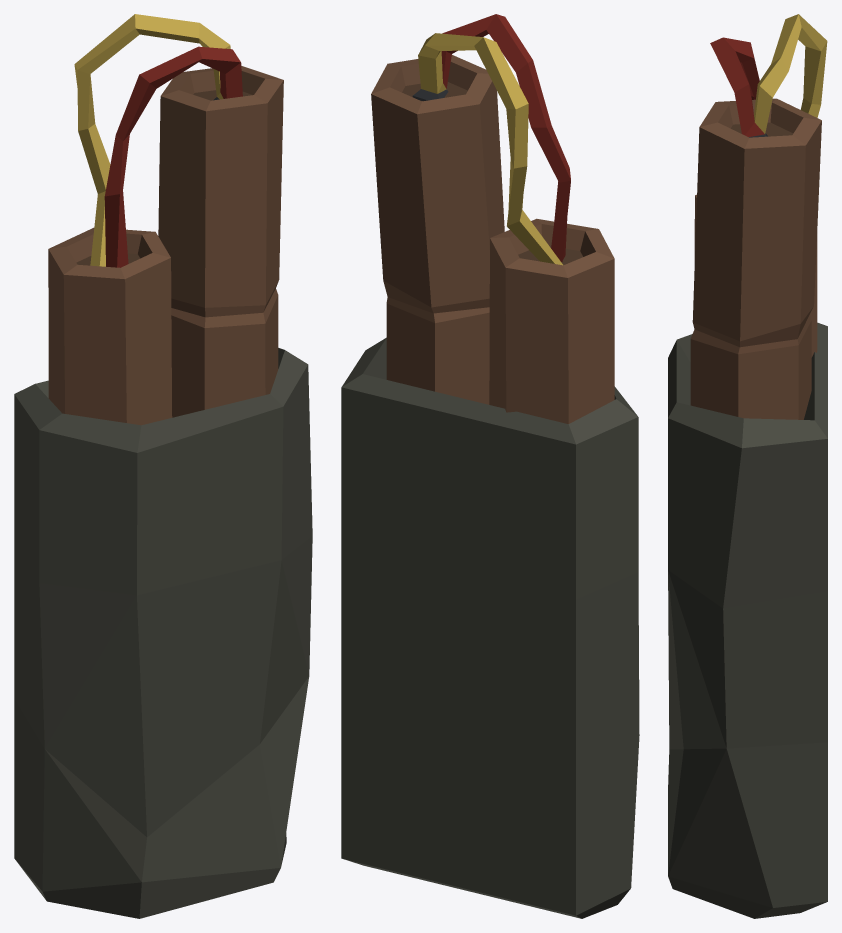
File: SM_Chr_Attach_Bomb_Dynamite_01.fbx
The picture shows the model from 3 angles, left to right: view 1: azimuth 30°, elevation 25°; view 2: azimuth 150°, elevation 25°; view 3: azimuth 270°, elevation 25°; orthographic projection.
Parts seen in each view (by area): view 1: SM_Chr_Attach_Bomb_Dynamite_01; view 2: SM_Chr_Attach_Bomb_Dynamite_01; view 3: SM_Chr_Attach_Bomb_Dynamite_01.
Part boxes in pixels (bbox=[...]): SM_Chr_Attach_Bomb_Dynamite_01: bbox=[14, 14, 312, 918]; SM_Chr_Attach_Bomb_Dynamite_01: bbox=[341, 14, 639, 918]; SM_Chr_Attach_Bomb_Dynamite_01: bbox=[668, 14, 827, 918].
Bounding box in the file's own units: 9.38 × 28.13 × 4.84.
